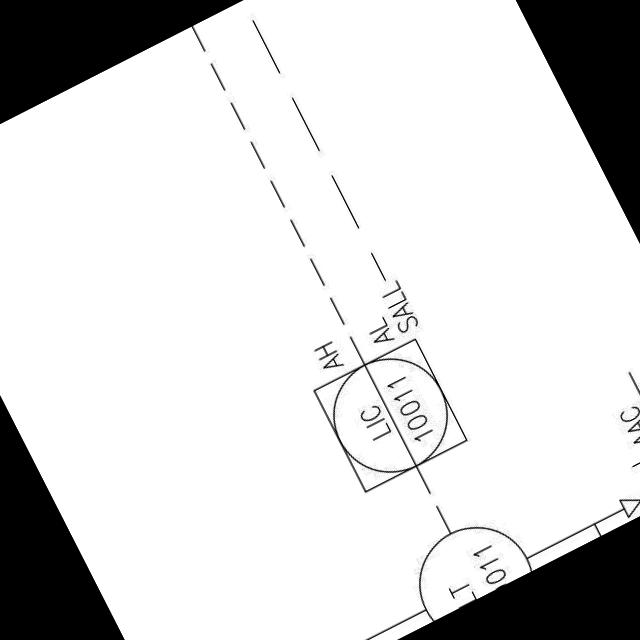GV: (611, 477, 640, 522)
